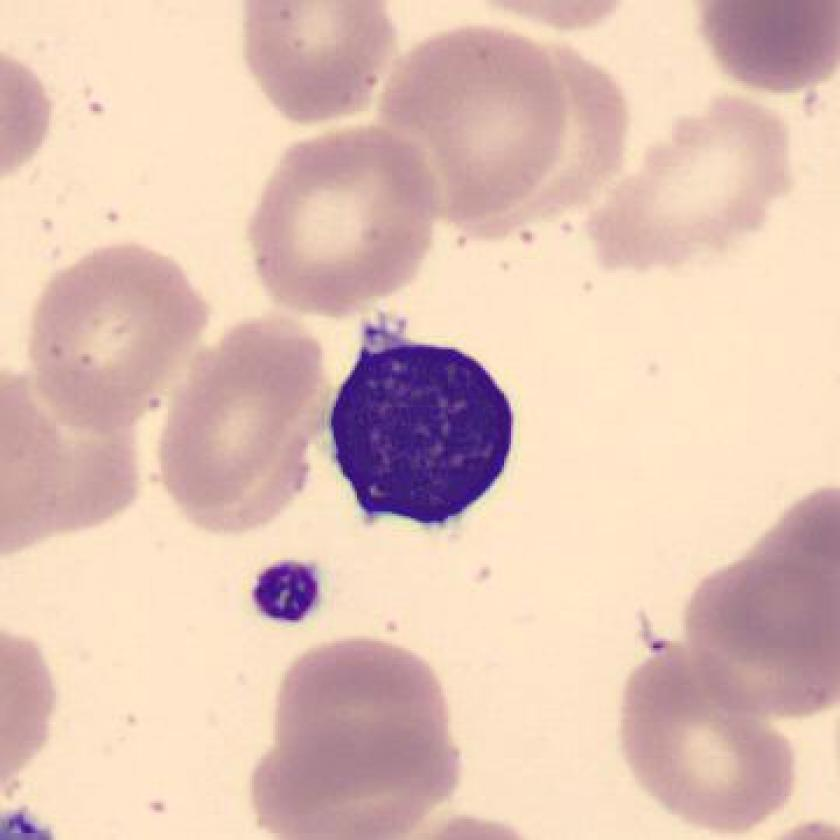lymphocyte: (309, 298, 533, 557)
